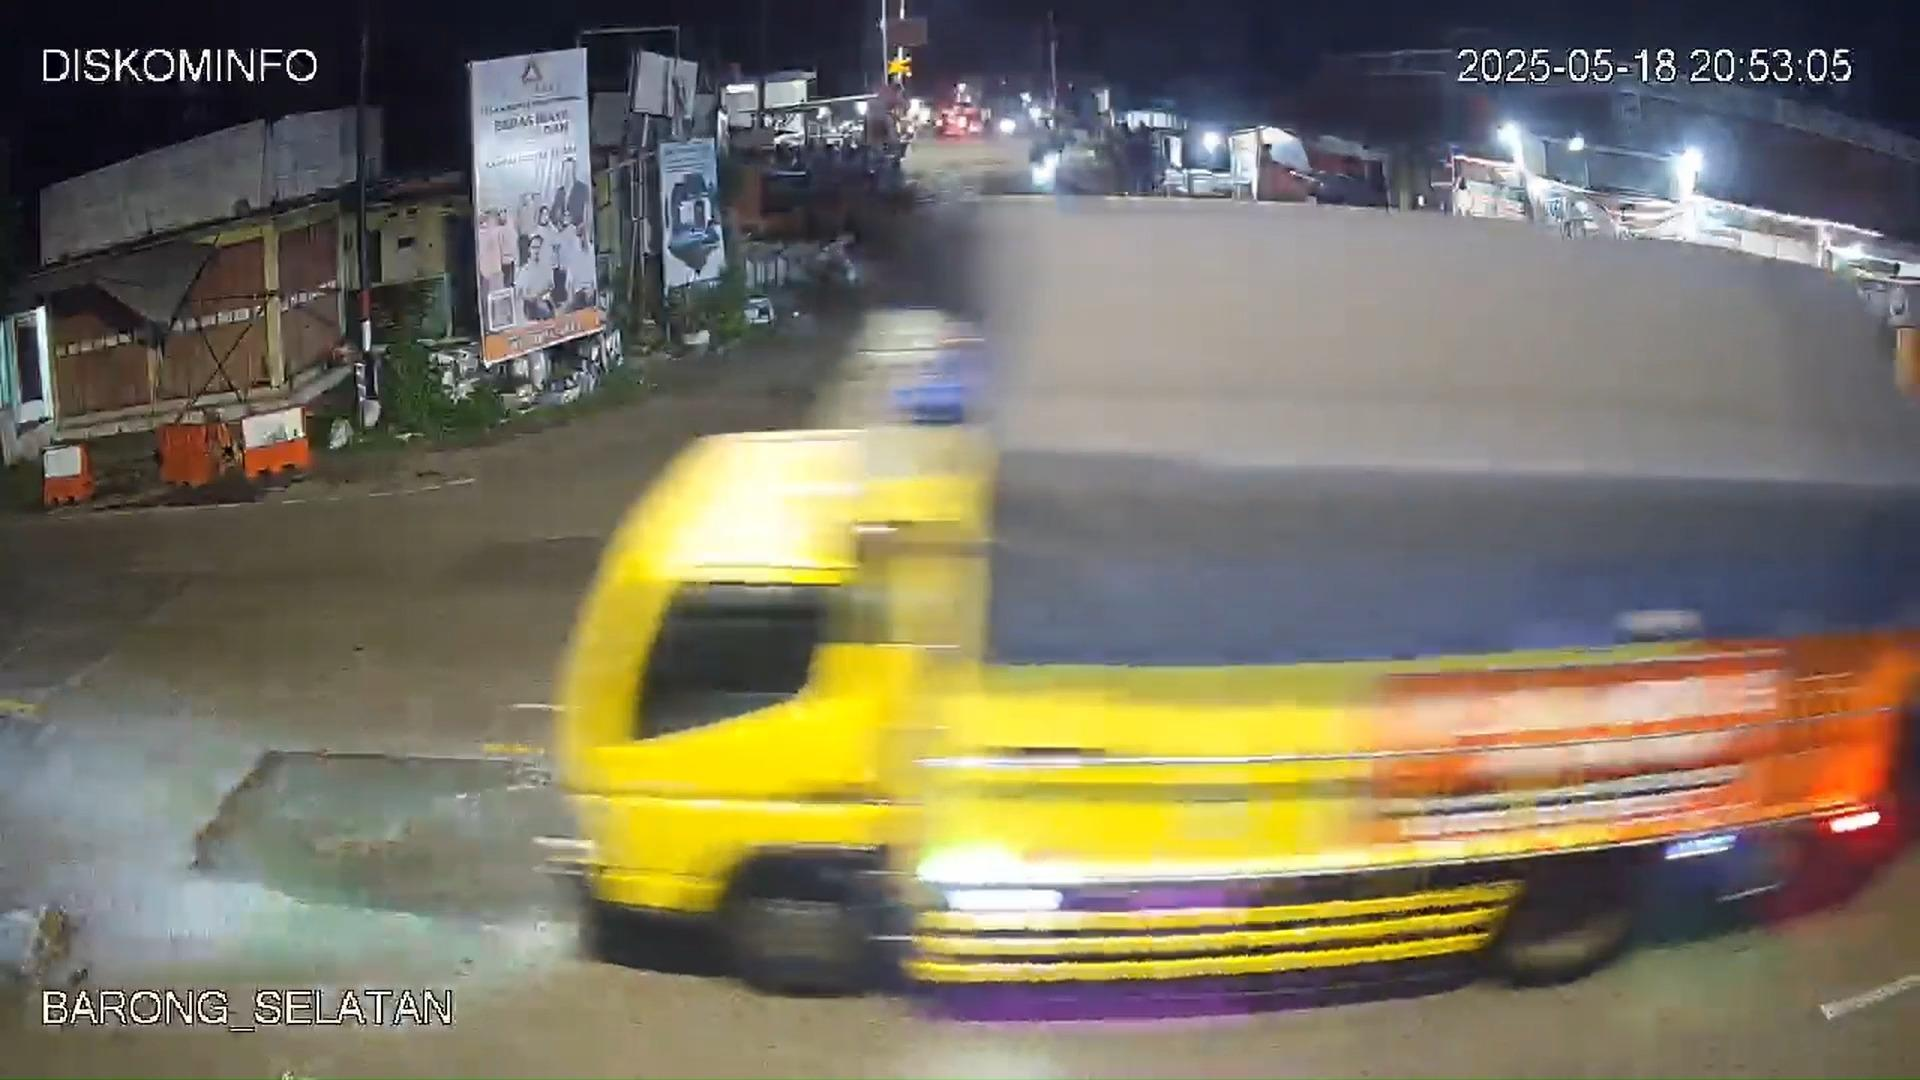Motor: (935, 102, 988, 140)
Truck: (562, 182, 1915, 1023)
